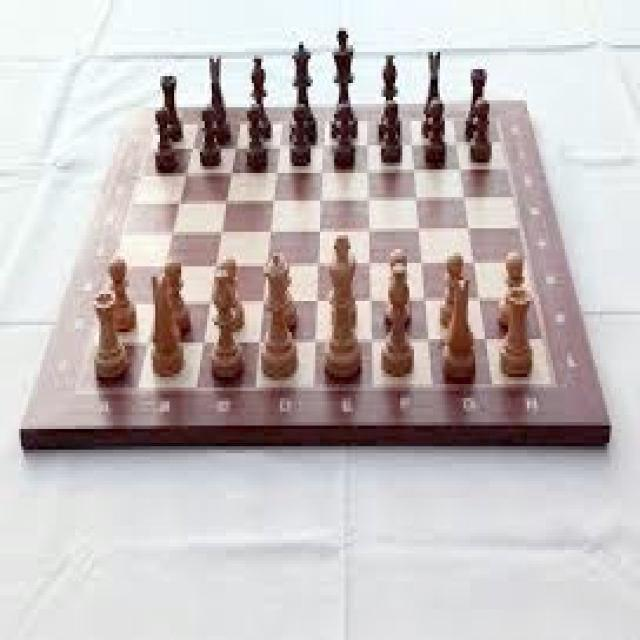chess-table-corners: (64, 370, 92, 410), (536, 360, 564, 394)
